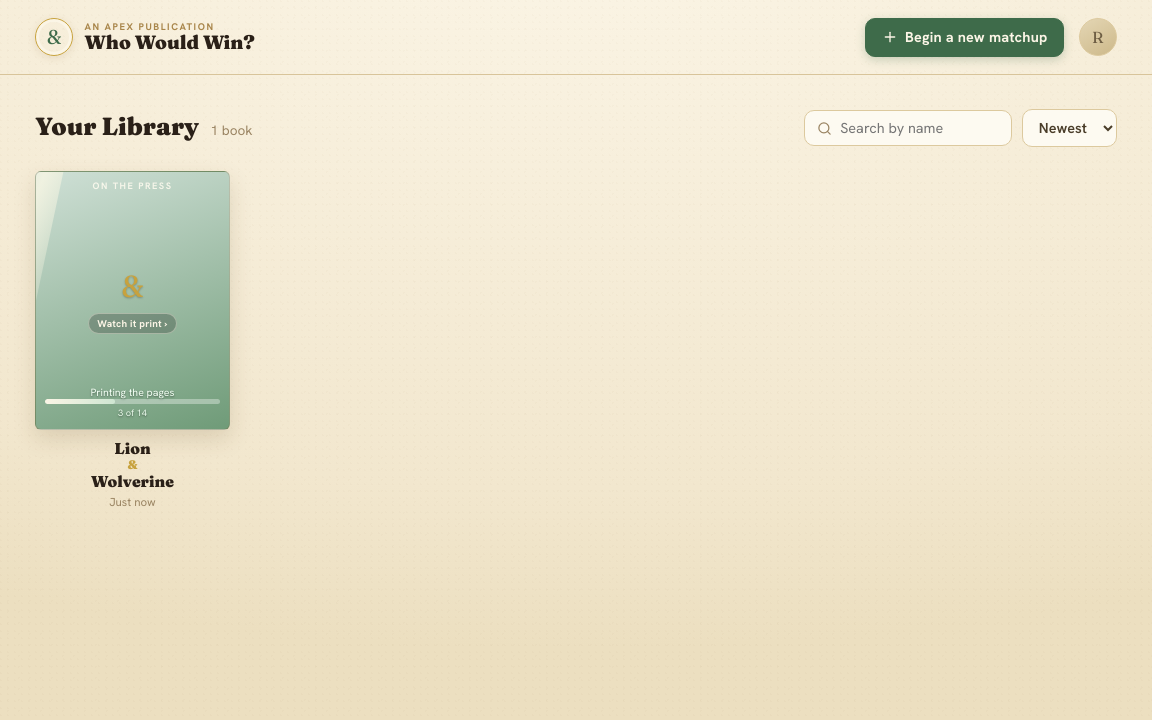
Test: Dashboard › press room and retry › opens the Press Room from a generating card
Expected: the progress indicator is shown, [45, 399, 115, 404]
Click the button with aria-label "watch lion & wolverine being printed": (132, 301) [36, 172, 229, 429]
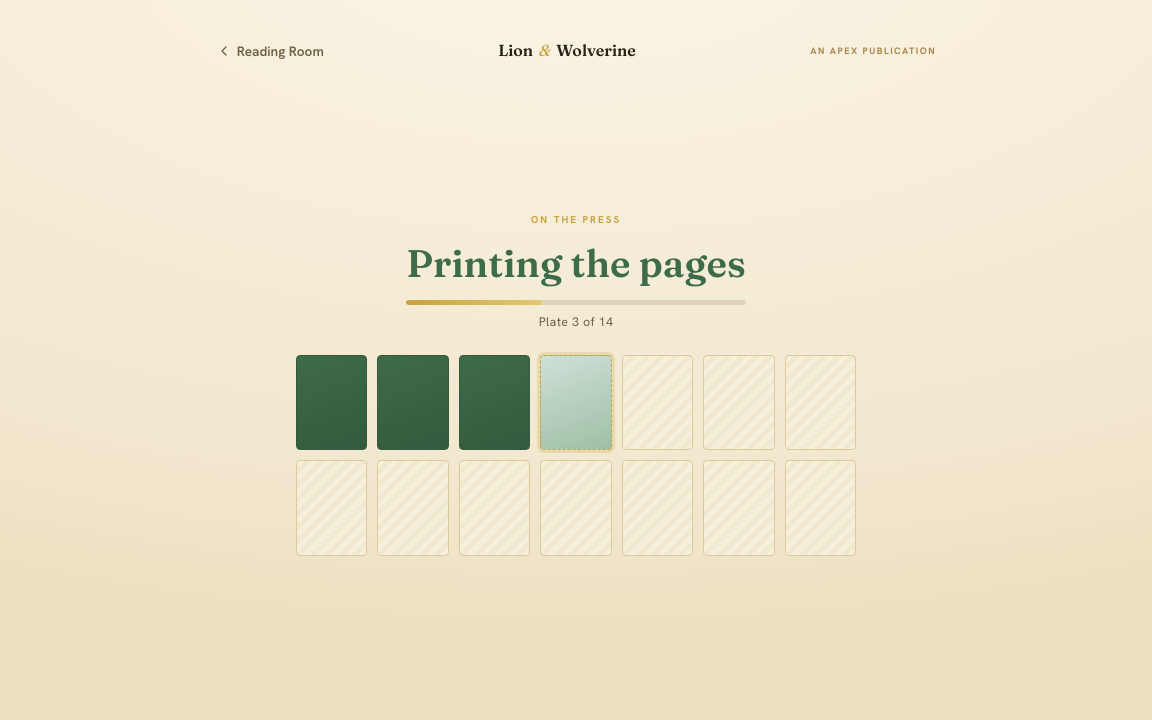
Expected: the dialog named "press room" is shown
